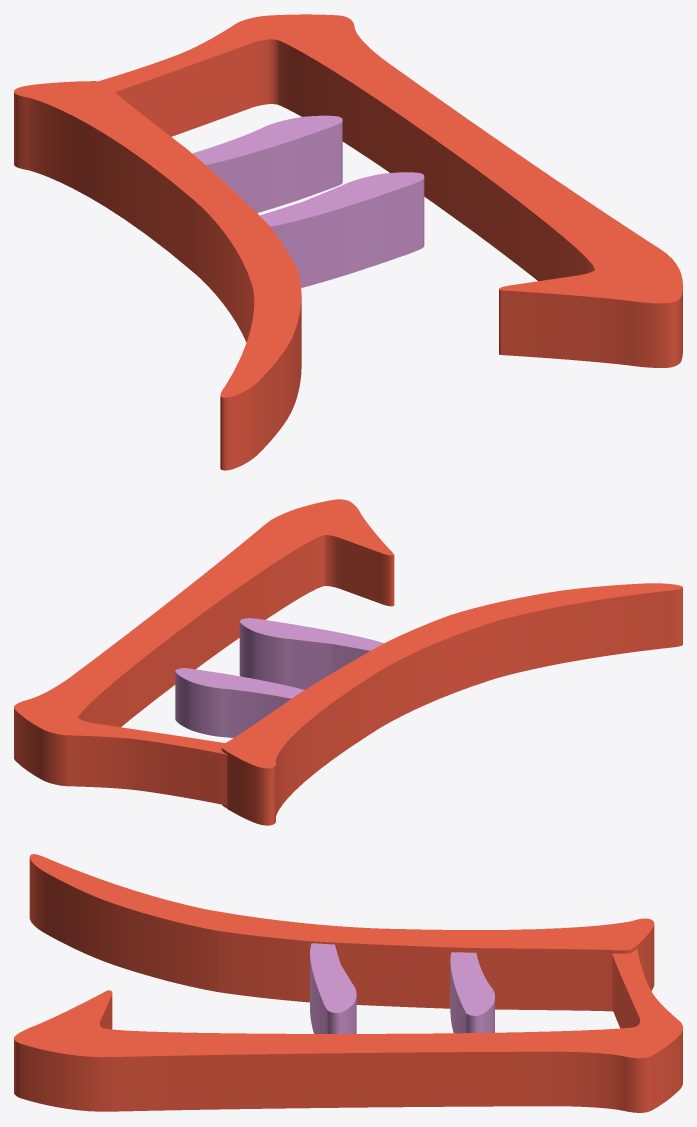
File: hanzi166.fbx
3 views of the same model, one above another, from view 1: azimuth 30°, elevation 25°; view 2: azimuth 150°, elevation 25°; view 3: azimuth 270°, elevation 25° (orthographic). The views are drawn at different scales.
Parts seen in each view (by area): view 1: Curve.001, Curve, Curve.003, Curve.002; view 2: Curve.001, Curve, Curve.003, Curve.002; view 3: Curve.001, Curve, Curve.003, Curve.002.
Part boxes in pixels (x1,y1,x2,y2): Curve.001: (99, 14, 682, 367); Curve: (14, 81, 301, 470); Curve.003: (259, 172, 424, 287); Curve.002: (192, 115, 342, 213); Curve.001: (14, 499, 394, 805); Curve: (221, 583, 682, 825); Curve.003: (239, 618, 383, 689); Curve.002: (175, 668, 304, 737); Curve.001: (14, 949, 682, 1112); Curve: (29, 854, 654, 1011); Curve.003: (310, 943, 356, 1033); Curve.002: (450, 952, 494, 1033).
Bounding box in the file's own units: 16.7 × 23.5 × 2.38.
